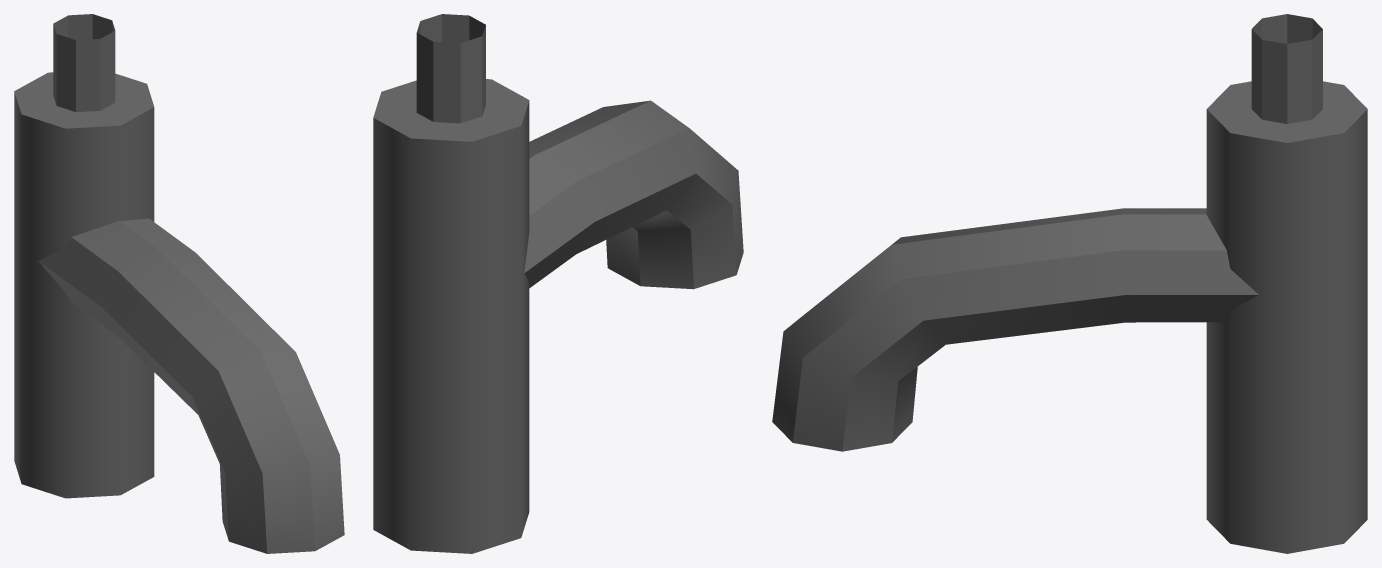
Rendered from Itr_Washstand_Tap_01.FBX.
The picture shows the model from 3 angles, left to right: view 1: azimuth 30°, elevation 25°; view 2: azimuth 150°, elevation 25°; view 3: azimuth 270°, elevation 25°; orthographic projection. The views are drawn at different scales.
Parts seen in each view (by area): view 1: Itr_Basin_Tap_01; view 2: Itr_Basin_Tap_01; view 3: Itr_Basin_Tap_01.
Boxes of the visible parts, x1,y1,x2,y2 form: Itr_Basin_Tap_01: (14,14,344,553); Itr_Basin_Tap_01: (373,14,743,553); Itr_Basin_Tap_01: (772,14,1367,553).
Size of the model in its own units: 1.8 by 6.04 by 6.64.
